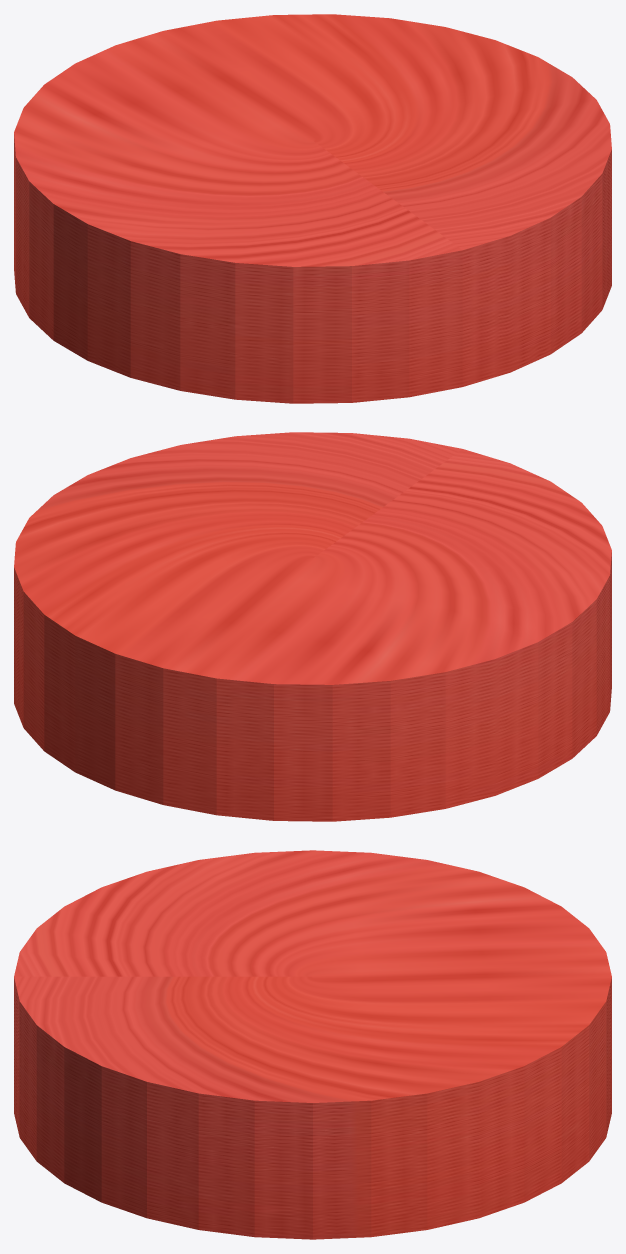
Rendered from paddle.obj.
The picture shows the model from 3 angles, top to bottom: view 1: azimuth 30°, elevation 25°; view 2: azimuth 150°, elevation 25°; view 3: azimuth 270°, elevation 25°; orthographic projection.
Visible parts, largest first — view 1: Mesh_Mesh.001_Cylinder; view 2: Mesh_Mesh.001_Cylinder; view 3: Mesh_Mesh.001_Cylinder.
Part boxes in pixels (<box>): Mesh_Mesh.001_Cylinder: <box>14,14,611,403</box>; Mesh_Mesh.001_Cylinder: <box>14,432,611,821</box>; Mesh_Mesh.001_Cylinder: <box>14,850,611,1239</box>.
Bounding box in the file's own units: 2 × 0.5039 × 2.
1 material, 1 textured.
